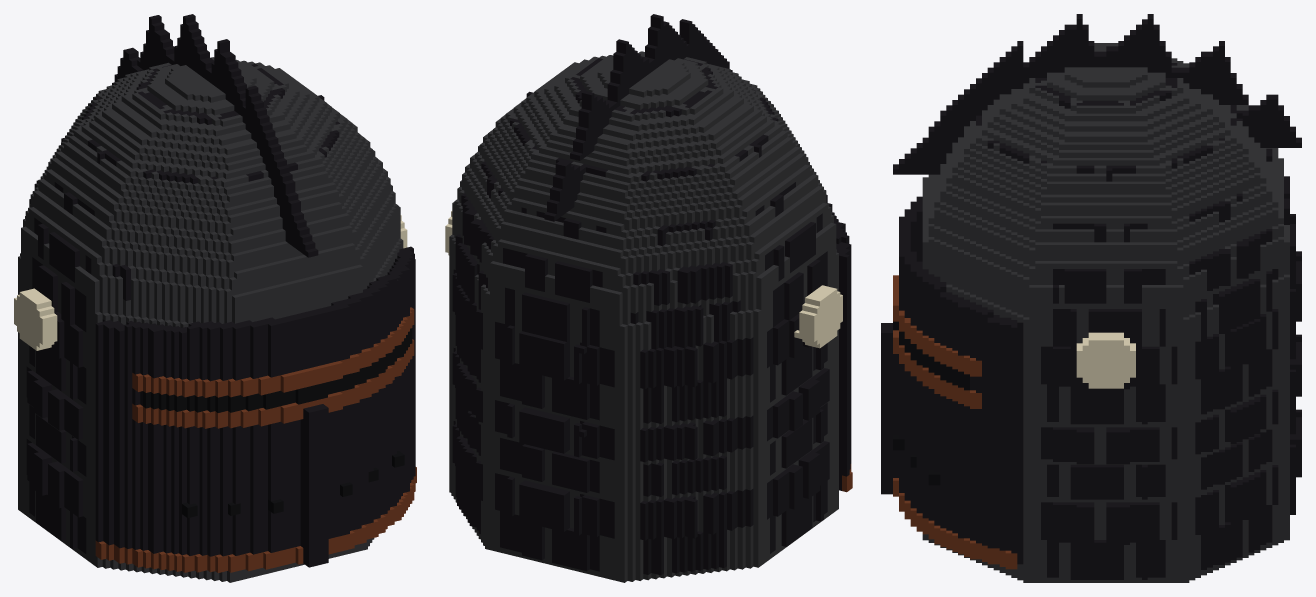
The model's file is helmet_xlblack_dragon_scale.glb.
3 renders of one model, left to right at view 1: azimuth 30°, elevation 25°; view 2: azimuth 150°, elevation 25°; view 3: azimuth 270°, elevation 25°, orthographic. The views are drawn at different scales.
Parts seen in each view (by area): view 1: helmet_xlblack_dragon_scale:compound; view 2: helmet_xlblack_dragon_scale:compound; view 3: helmet_xlblack_dragon_scale:compound.
Part boxes in pixels (left/top/right/bottom): helmet_xlblack_dragon_scale:compound: left=14, top=14, right=416, bottom=582; helmet_xlblack_dragon_scale:compound: left=445, top=14, right=852, bottom=582; helmet_xlblack_dragon_scale:compound: left=881, top=14, right=1301, bottom=582.
Bounding box in the file's own units: 0.296 × 0.364 × 0.284.
